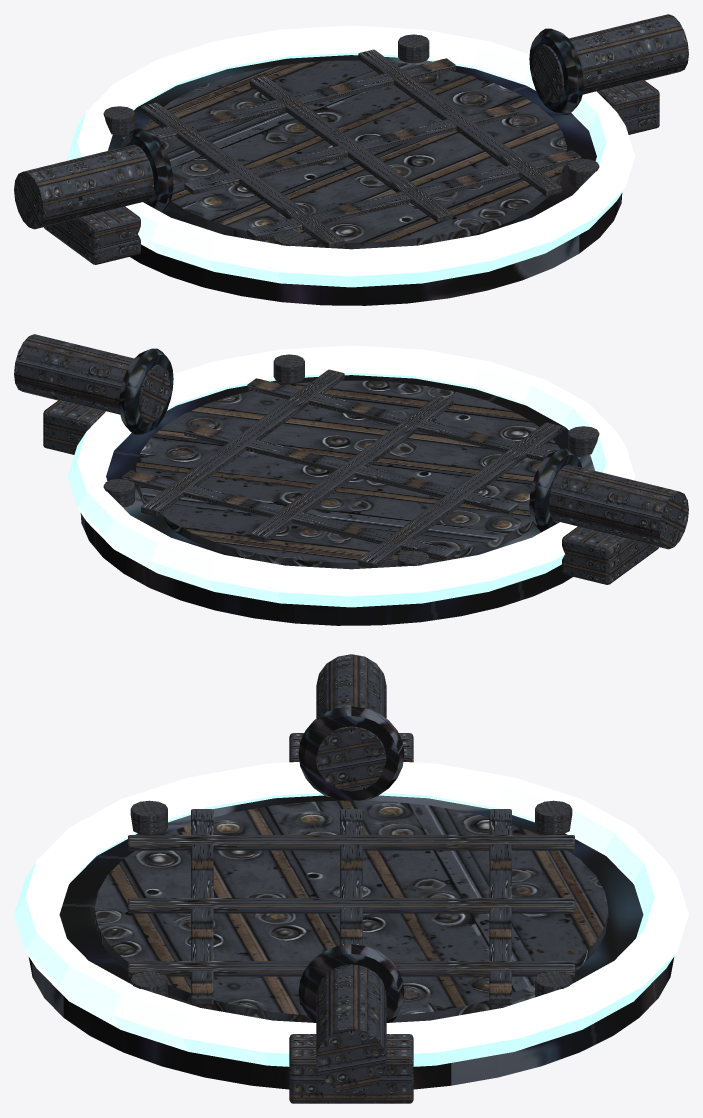
Rendered from prop_pipe_port.glb.
3 renders of one model, top to bottom at view 1: azimuth 30°, elevation 25°; view 2: azimuth 150°, elevation 25°; view 3: azimuth 270°, elevation 25°, orthographic. The views are drawn at different scales.
Visible parts, largest first — view 1: inner, rim, base, stub_-1, stub_1, grate_y_2, grate_y_0, grate_x_1, grate_y_1, grate_x_0, saddle_-1, grate_x_2 (+6 smaller); view 2: inner, rim, base, stub_-1, stub_1, grate_y_2, grate_y_0, grate_x_1, grate_y_1, grate_x_2, saddle_-1, grate_x_0 (+6 smaller); view 3: inner, rim, base, stub_1, stub_-1, grate_y_0, grate_y_1, saddle_1, grate_y_2, flange_-1, grate_x_0, grate_x_2 (+6 smaller).
Boxes of the visible parts, x1=… form: inner: x1=142, y1=60, x2=566, y2=249; rim: x1=67, y1=25, x2=635, y2=287; base: x1=108, y1=55, x2=622, y2=305; stub_-1: x1=14, y1=144, x2=153, y2=229; stub_1: x1=532, y1=14, x2=688, y2=102; grate_y_2: x1=358, y1=49, x2=561, y2=196; grate_y_0: x1=141, y1=102, x2=344, y2=248; grate_x_1: x1=184, y1=104, x2=518, y2=194; grate_y_1: x1=249, y1=76, x2=453, y2=222; grate_x_0: x1=247, y1=150, x2=581, y2=240; saddle_-1: x1=44, y1=206, x2=140, y2=264; grate_x_2: x1=121, y1=58, x2=455, y2=142; inner: x1=136, y1=380, x2=560, y2=569; rim: x1=67, y1=345, x2=635, y2=607; base: x1=80, y1=375, x2=594, y2=625; stub_-1: x1=549, y1=464, x2=688, y2=549; stub_1: x1=14, y1=334, x2=170, y2=422; grate_y_2: x1=141, y1=369, x2=344, y2=516; grate_y_0: x1=358, y1=422, x2=561, y2=568; grate_x_1: x1=184, y1=424, x2=518, y2=514; grate_y_1: x1=249, y1=396, x2=453, y2=542; grate_x_2: x1=121, y1=470, x2=455, y2=560; saddle_-1: x1=562, y1=526, x2=658, y2=584; grate_x_0: x1=247, y1=378, x2=581, y2=462; inner: x1=94, y1=800, x2=608, y2=1022; rim: x1=14, y1=762, x2=688, y2=1066; base: x1=28, y1=795, x2=674, y2=1089; stub_1: x1=316, y1=964, x2=386, y2=1092; stub_-1: x1=316, y1=654, x2=386, y2=791; grate_y_0: x1=128, y1=835, x2=574, y2=851; grate_y_1: x1=128, y1=898, x2=574, y2=913; saddle_1: x1=289, y1=1034, x2=413, y2=1103; grate_y_2: x1=128, y1=961, x2=574, y2=977; flange_-1: x1=298, y1=706, x2=404, y2=800; grate_x_0: x1=191, y1=809, x2=213, y2=1004; grate_x_2: x1=489, y1=809, x2=511, y2=1004.
Bounding box in the file's own units: 2.14 × 0.348 × 1.63.
3 materials, 2 textured.
